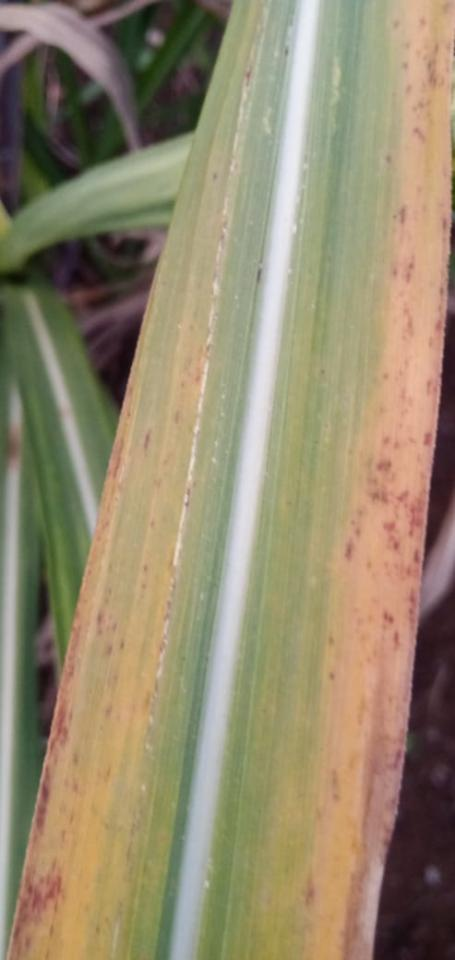Rust: (6, 376, 138, 959)
Yellow: (314, 0, 454, 959)
